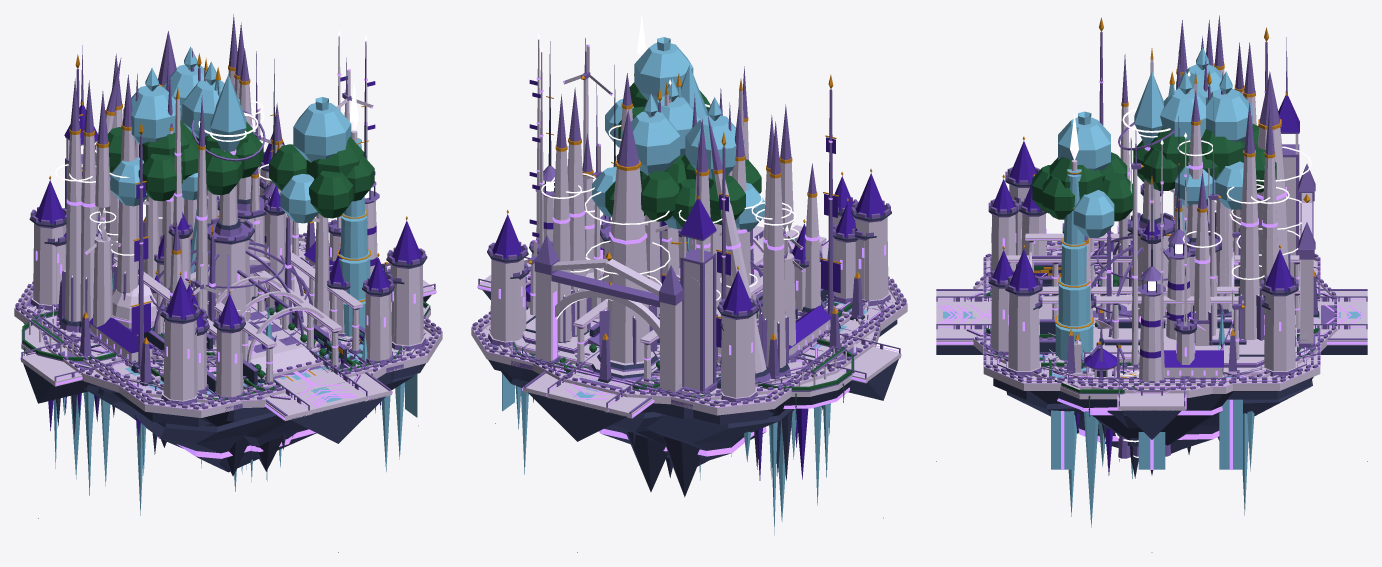
File: SC_RECOLOR_AETHER_SURGE.fbx
The picture shows the model from 3 angles, left to right: view 1: azimuth 30°, elevation 25°; view 2: azimuth 150°, elevation 25°; view 3: azimuth 270°, elevation 25°; orthographic projection. The views are drawn at different scales.
Visible parts, largest first — view 1: chunk_spire_court__aether_surge, chunk_sky_tree_grove__aether_surge, chunk_boss_clearing__aether_surge, chunk_path_colonnade__aether_surge, chunk_aether_springs__aether_surge, chunk_parade_ground__aether_surge, chunk_spire_court_b__aether_surge, chunk_path_straight__aether_surge, chunk_side_garden__aether_surge, chunk_archive__aether_surge, chunk_entry__aether_surge, chunk_garden_terrace__aether_surge (+19 smaller); view 2: chunk_spire_court__aether_surge, chunk_boss_clearing__aether_surge, chunk_garden_terrace__aether_surge, chunk_archive__aether_surge, chunk_sky_tree_grove__aether_surge, chunk_parade_ground__aether_surge, chunk_path_colonnade__aether_surge, chunk_armory__aether_surge, chunk_spire_court_b__aether_surge, chunk_aether_springs__aether_surge, chunk_path_long_span__aether_surge, chunk_entry__aether_surge (+14 smaller); view 3: chunk_spire_court__aether_surge, chunk_boss_clearing__aether_surge, chunk_aether_springs__aether_surge, chunk_garden_terrace__aether_surge, chunk_sky_tree_grove__aether_surge, chunk_armory__aether_surge, chunk_archive__aether_surge, chunk_parade_ground__aether_surge, chunk_side_garden__aether_surge, chunk_spire_court_b__aether_surge, chunk_crossroads__aether_surge, chunk_path_bend_west__aether_surge (+17 smaller).
Part boxes in pixels (bbox=[...]): chunk_spire_court__aether_surge: bbox=[14, 22, 442, 472]; chunk_sky_tree_grove__aether_surge: bbox=[107, 67, 402, 473]; chunk_boss_clearing__aether_surge: bbox=[37, 31, 406, 443]; chunk_path_colonnade__aether_surge: bbox=[38, 78, 360, 479]; chunk_aether_springs__aether_surge: bbox=[20, 83, 425, 552]; chunk_parade_ground__aether_surge: bbox=[20, 14, 436, 426]; chunk_spire_court_b__aether_surge: bbox=[52, 57, 403, 471]; chunk_path_straight__aether_surge: bbox=[163, 95, 333, 399]; chunk_side_garden__aether_surge: bbox=[151, 61, 356, 403]; chunk_archive__aether_surge: bbox=[64, 45, 393, 421]; chunk_entry__aether_surge: bbox=[109, 74, 352, 382]; chunk_garden_terrace__aether_surge: bbox=[21, 46, 430, 495]; chunk_spire_court__aether_surge: bbox=[471, 87, 907, 465]; chunk_boss_clearing__aether_surge: bbox=[508, 110, 884, 415]; chunk_garden_terrace__aether_surge: bbox=[560, 93, 854, 505]; chunk_archive__aether_surge: bbox=[520, 142, 851, 435]; chunk_sky_tree_grove__aether_surge: bbox=[512, 37, 852, 418]; chunk_parade_ground__aether_surge: bbox=[477, 94, 901, 424]; chunk_path_colonnade__aether_surge: bbox=[552, 121, 811, 521]; chunk_armory__aether_surge: bbox=[525, 132, 869, 497]; chunk_spire_court_b__aether_surge: bbox=[511, 38, 869, 491]; chunk_aether_springs__aether_surge: bbox=[489, 14, 901, 552]; chunk_path_long_span__aether_surge: bbox=[515, 74, 864, 477]; chunk_entry__aether_surge: bbox=[559, 104, 830, 406]; chunk_spire_court__aether_surge: bbox=[983, 42, 1367, 453]; chunk_boss_clearing__aether_surge: bbox=[936, 71, 1336, 398]; chunk_aether_springs__aether_surge: bbox=[936, 112, 1367, 552]; chunk_garden_terrace__aether_surge: bbox=[984, 71, 1321, 527]; chunk_sky_tree_grove__aether_surge: bbox=[990, 47, 1312, 367]; chunk_armory__aether_surge: bbox=[936, 27, 1367, 445]; chunk_archive__aether_surge: bbox=[936, 37, 1367, 360]; chunk_parade_ground__aether_surge: bbox=[942, 103, 1365, 399]; chunk_side_garden__aether_surge: bbox=[947, 71, 1215, 328]; chunk_spire_court_b__aether_surge: bbox=[984, 130, 1319, 439]; chunk_crossroads__aether_surge: bbox=[937, 71, 1367, 439]; chunk_path_bend_west__aether_surge: bbox=[1096, 159, 1190, 395].
Bounding box in the file's own units: 256 × 256 × 256.
